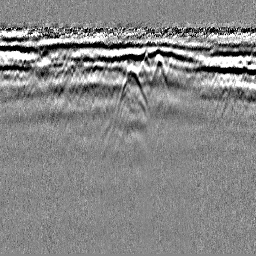cavity: (116, 63, 152, 115)
